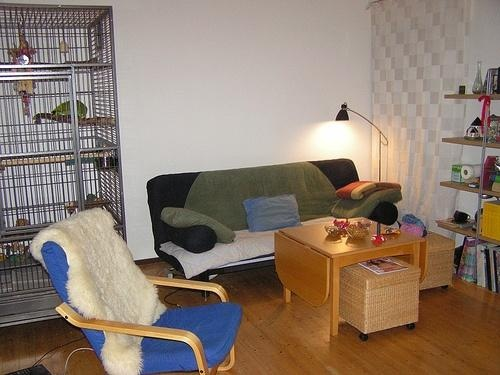chair: (30, 209, 243, 374)
sofa: (147, 159, 399, 298)
